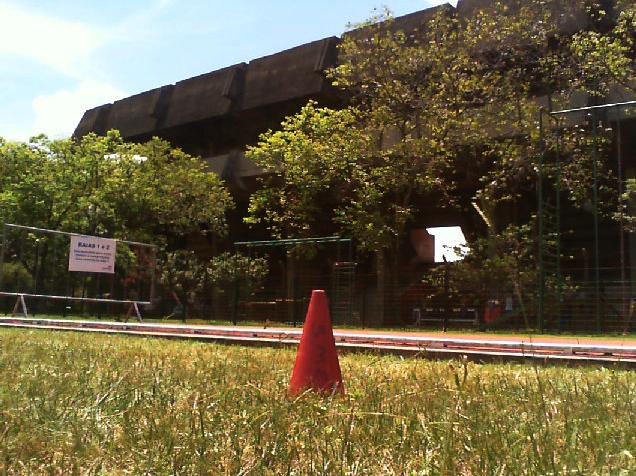0 cone: (290, 290, 344, 397)
